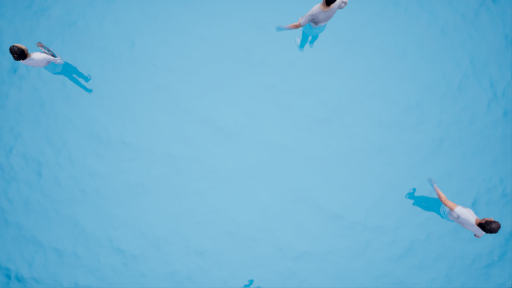person: (413, 175, 507, 249), (8, 43, 102, 103), (273, 1, 352, 55)
